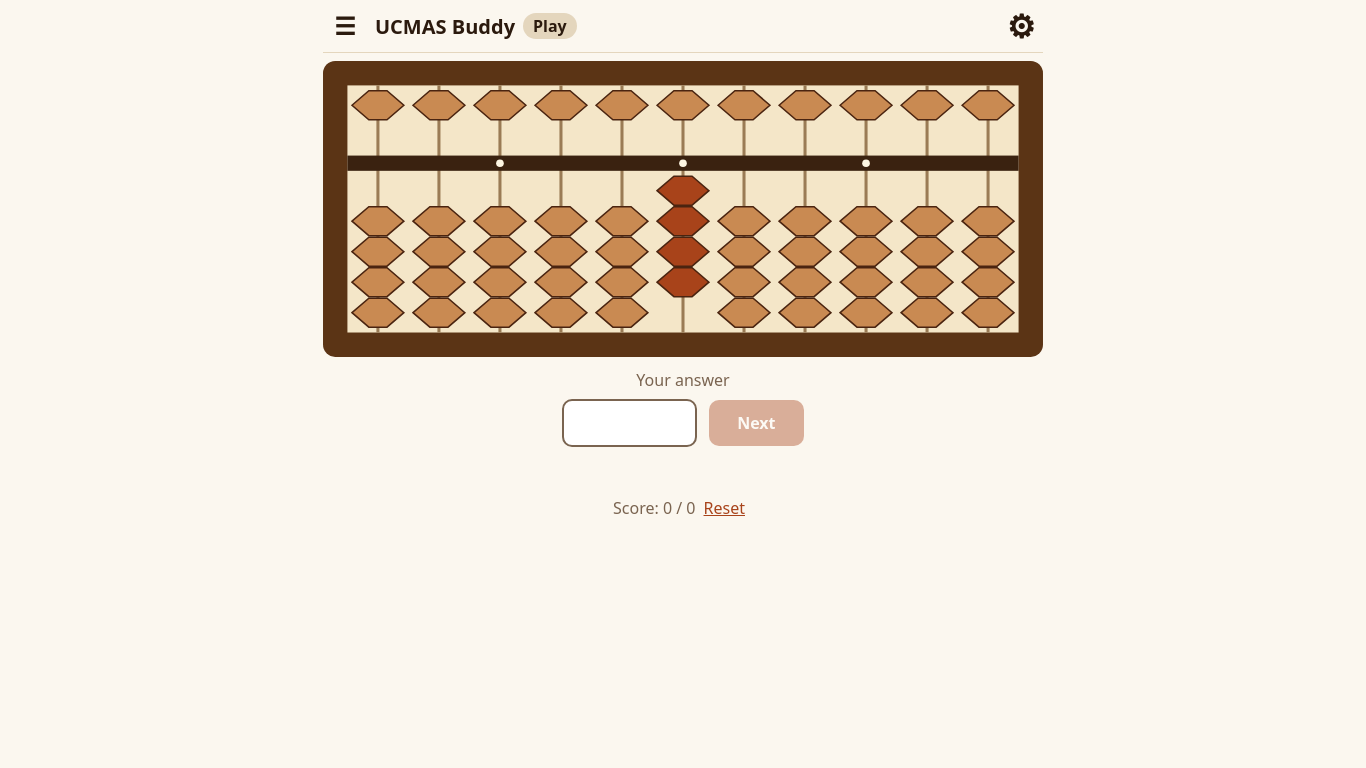
Scenario: <App> › vanish settings (AC5) › enables Save when the switch changes
This screenshot has width=1366, height=768.
Click the button named "open settings" at (1021, 26), box 999,4 -> 1043,48
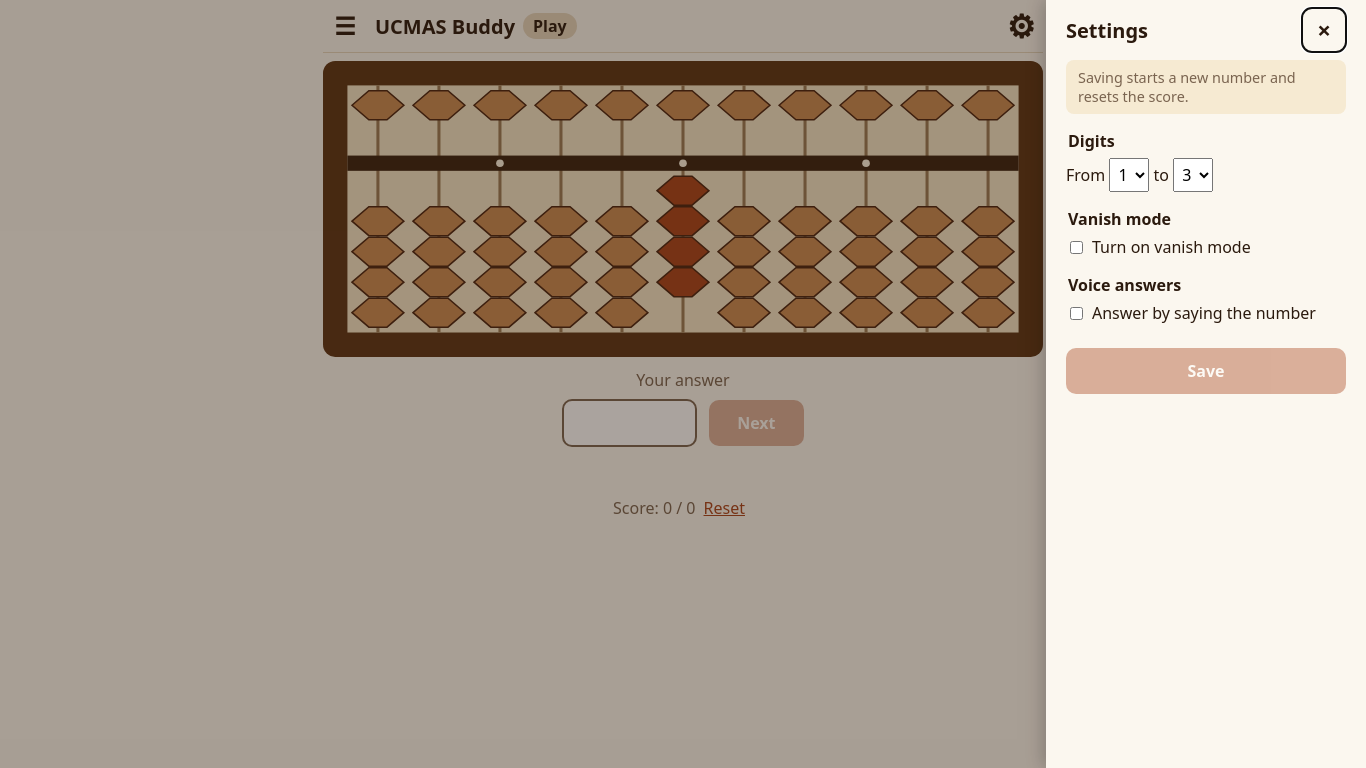
Click the checkbox labelled "Turn on vanish mode" at (1076, 247), box 1070,240 -> 1083,254
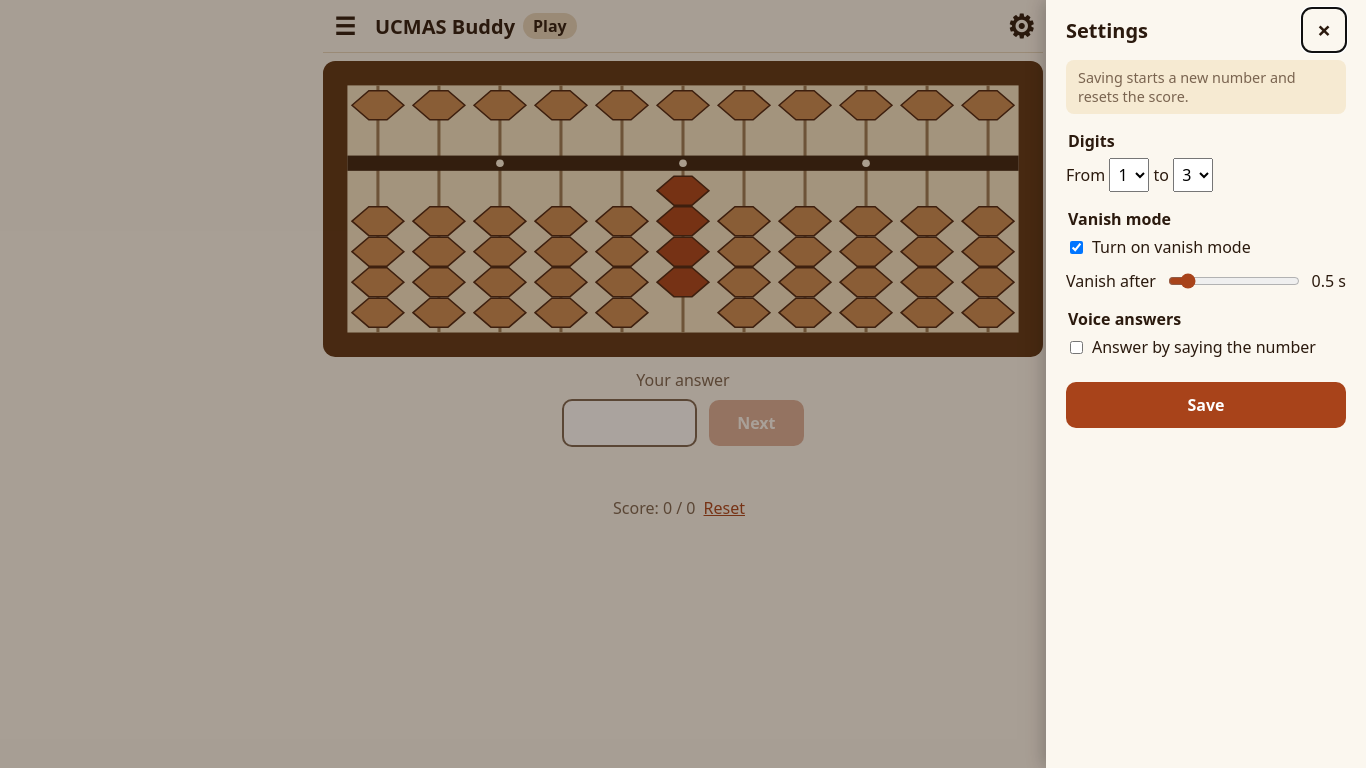
expect the button "Save" is enabled: met, box 1066,382 -> 1346,428
